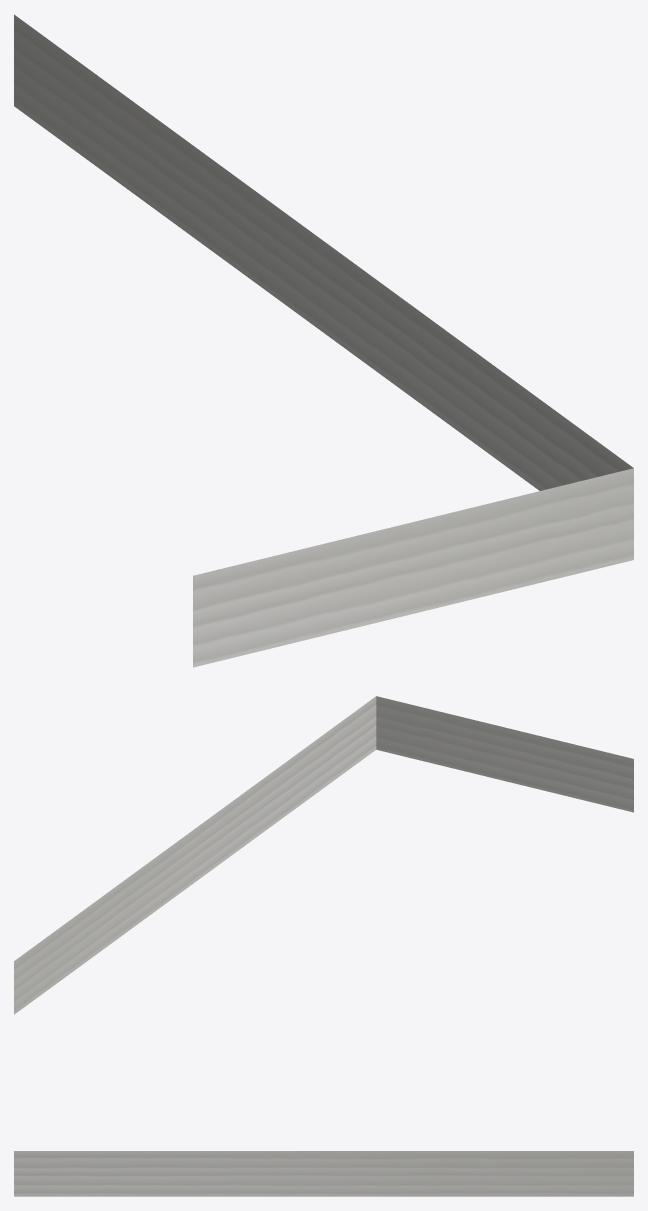
File: BP_BackplashCenterLinearwhite.glb
3 views of the same model, one above another, from view 1: azimuth 30°, elevation 25°; view 2: azimuth 150°, elevation 25°; view 3: azimuth 270°, elevation 25° (orthographic). The views are drawn at different scales.
Parts seen in each view (by area): view 1: Center_Linear_white; view 2: Center_Linear_white; view 3: Center_Linear_white.
Part boxes in pixels (box(x1,y1,x2,y2)): Center_Linear_white: box(14, 14, 633, 667); Center_Linear_white: box(14, 696, 633, 1014); Center_Linear_white: box(14, 1151, 633, 1196).
Bounding box in the file's own units: 0.955 × 0.19 × 2.32.
1 material, 1 textured.
